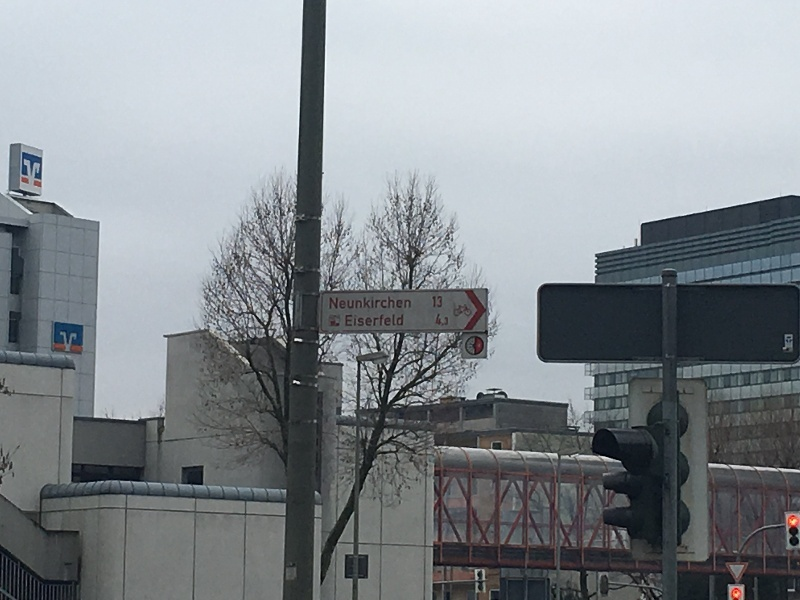text: (65, 331, 78, 353), (23, 158, 32, 188), (33, 158, 41, 188), (337, 296, 352, 310), (353, 296, 368, 310), (369, 296, 384, 310), (385, 296, 400, 310), (353, 314, 368, 327), (369, 314, 384, 327), (385, 314, 400, 327), (436, 314, 448, 327), (401, 296, 412, 310), (433, 296, 443, 308), (345, 314, 352, 327), (60, 331, 64, 353), (330, 296, 336, 310), (401, 314, 404, 327)
